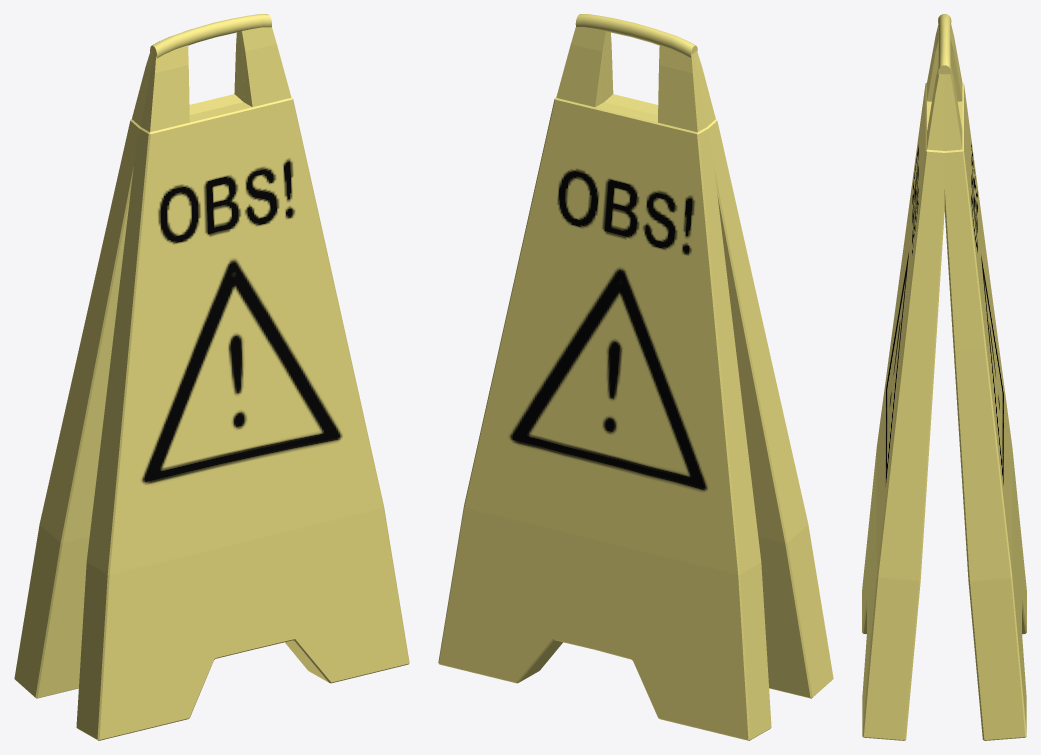
The model's file is Obs_skylt.fbx.
The picture shows the model from 3 angles, left to right: view 1: azimuth 30°, elevation 25°; view 2: azimuth 150°, elevation 25°; view 3: azimuth 270°, elevation 25°; orthographic projection. The views are drawn at different scales.
Visible parts, largest first — view 1: OBS_Skylt; view 2: OBS_Skylt; view 3: OBS_Skylt.
Boxes of the visible parts, x1=… form: OBS_Skylt: x1=14, y1=14, x2=409, y2=740; OBS_Skylt: x1=438, y1=14, x2=833, y2=740; OBS_Skylt: x1=862, y1=14, x2=1026, y2=740.
Bounding box in the file's own units: 1.19 × 2.38 × 0.5597.
Materials: 1 (1 with a texture image).
